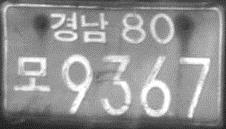0: (149, 10, 176, 45)
3: (99, 53, 133, 117)
6: (139, 54, 171, 118)
7: (176, 54, 213, 123)
8: (120, 12, 147, 45)
9: (60, 52, 95, 115)
경남_O: (48, 9, 109, 45)
모: (12, 55, 53, 95)
